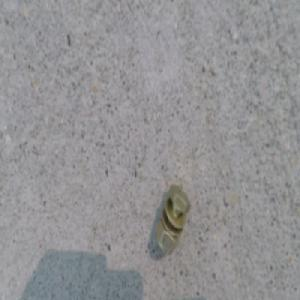BoltNutSet: (150, 183, 186, 254)
